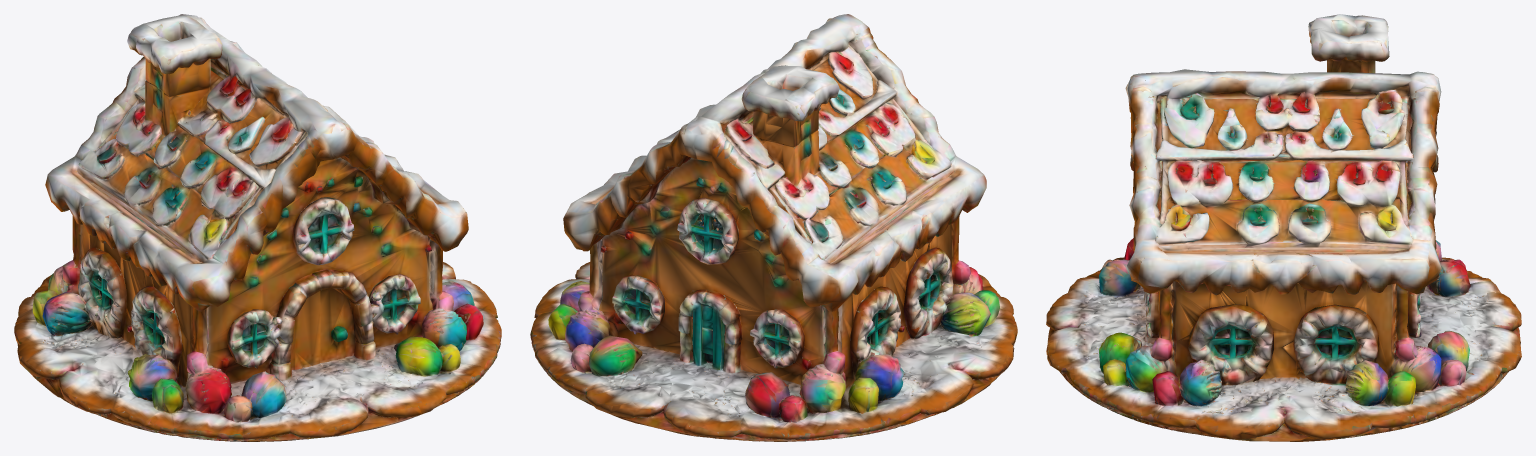
3 views of the same model, side by side, from view 1: azimuth 30°, elevation 25°; view 2: azimuth 150°, elevation 25°; view 3: azimuth 270°, elevation 25° (orthographic).
Bounding box in the file's own units: 1.89 × 1.29 × 1.89.
1 material, 1 textured.
